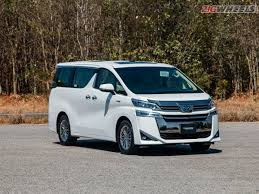Toyota: (54, 60, 217, 147)
